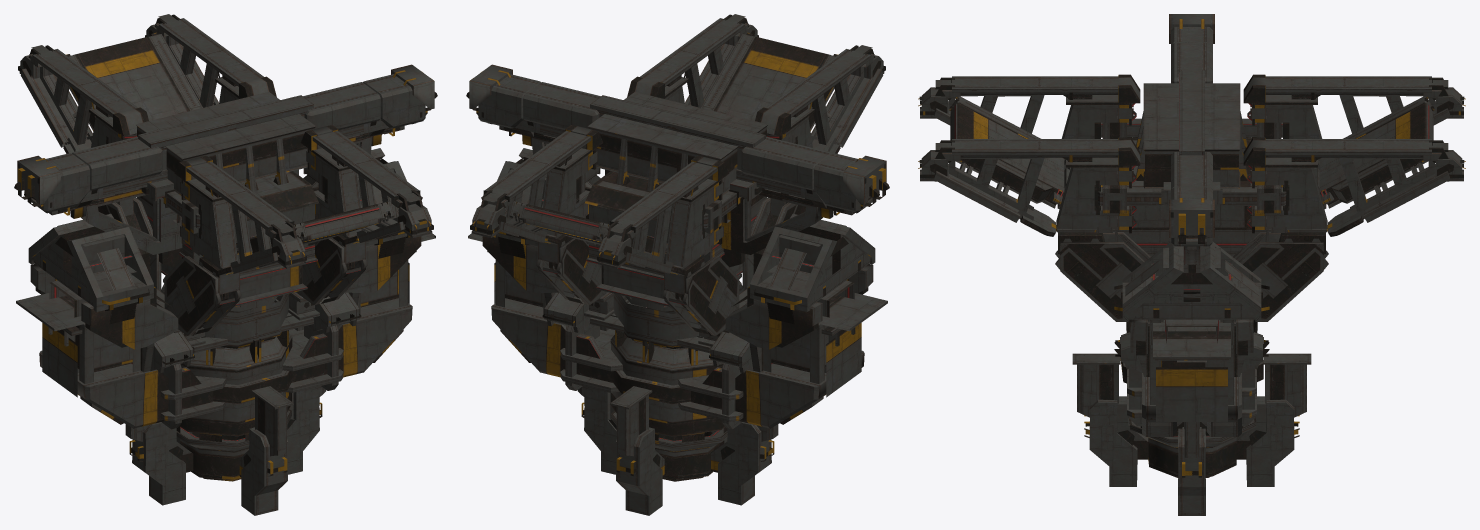
File: Drill_top_phys.fbx
3 views of the same model, side by side, from view 1: azimuth 30°, elevation 25°; view 2: azimuth 150°, elevation 25°; view 3: azimuth 270°, elevation 25° (orthographic).
Parts seen in each view (by area): view 1: Drill_top_phys; view 2: Drill_top_phys; view 3: Drill_top_phys.
Part boxes in pixels (<box>): Drill_top_phys: <box>14,14,437,515</box>; Drill_top_phys: <box>466,14,889,515</box>; Drill_top_phys: <box>918,14,1465,515</box>.
Bounding box in the file's own units: 3175 × 2677 × 3590.
